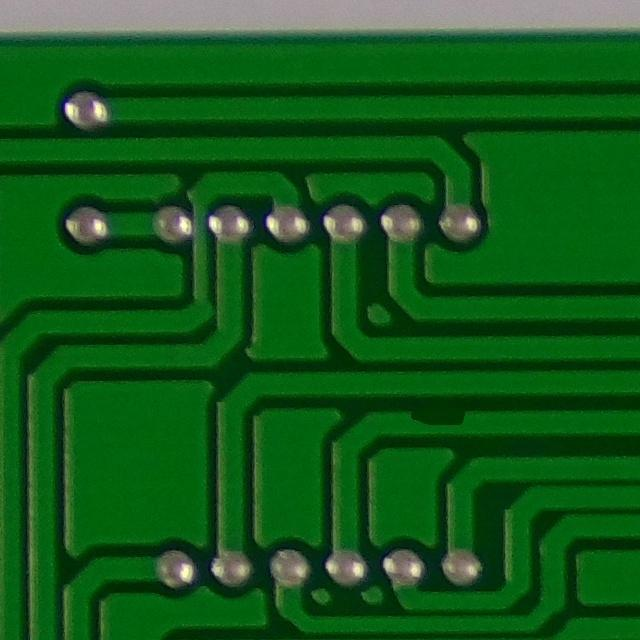mouse_bite: (395, 401, 483, 444)
